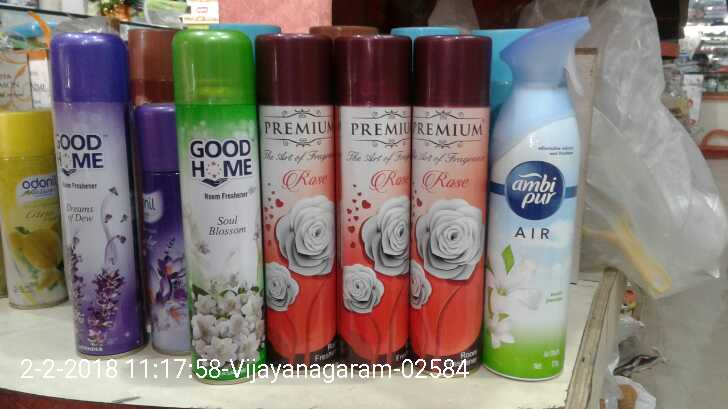ambipure: (488, 14, 591, 379)
